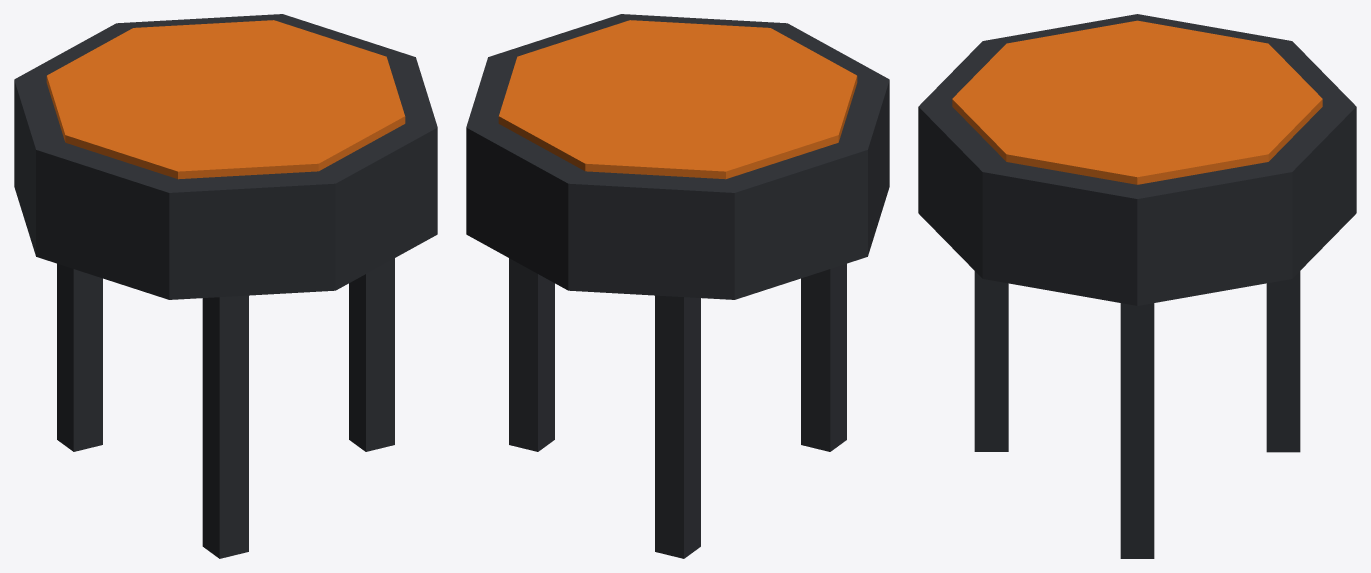
File: dungeon_brazier.obj
3 views of the same model, side by side, from view 1: azimuth 30°, elevation 25°; view 2: azimuth 150°, elevation 25°; view 3: azimuth 270°, elevation 25° (orthographic).
Visible parts, largest first — view 1: dungeon_brazier; view 2: dungeon_brazier; view 3: dungeon_brazier.
Part boxes in pixels (x1,y1,x2,y2): dungeon_brazier: [14, 14, 437, 558]; dungeon_brazier: [466, 14, 889, 558]; dungeon_brazier: [918, 14, 1356, 558].
Bounding box in the file's own units: 0.52 × 0.5 × 0.52.
